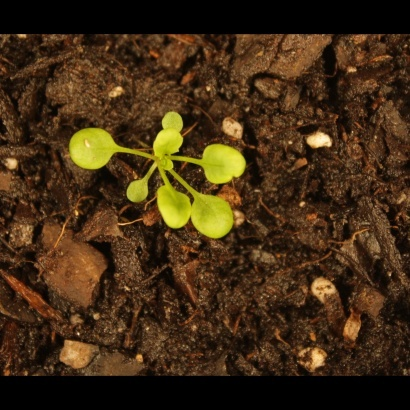leaf: (64, 124, 122, 171), (201, 140, 255, 187), (188, 189, 237, 240), (156, 182, 195, 233), (150, 128, 187, 162), (121, 172, 153, 208), (158, 107, 188, 133)
